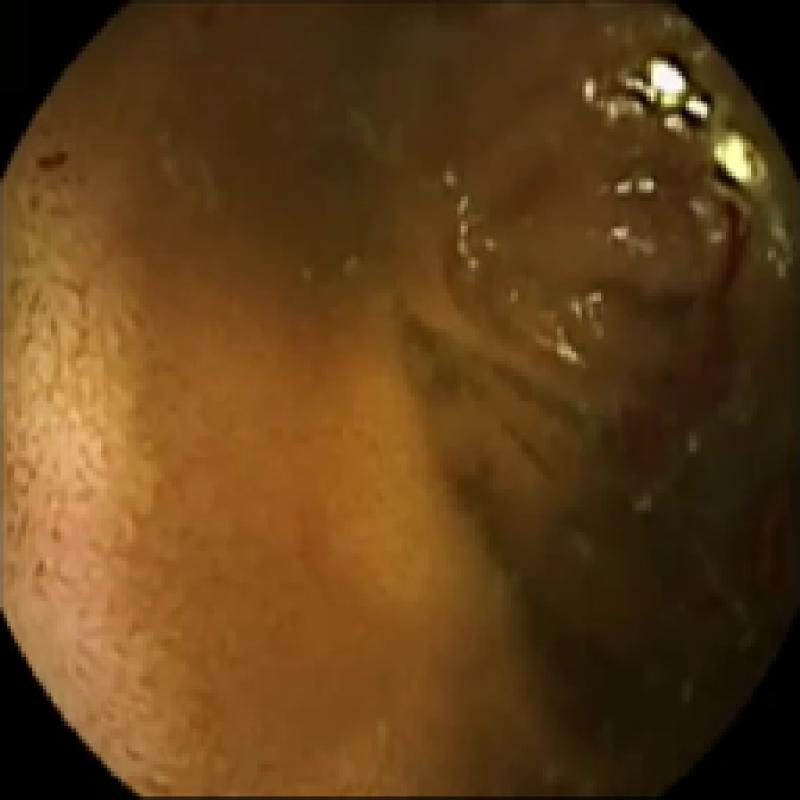bleeding: (597, 201, 746, 475), (25, 150, 68, 175)
